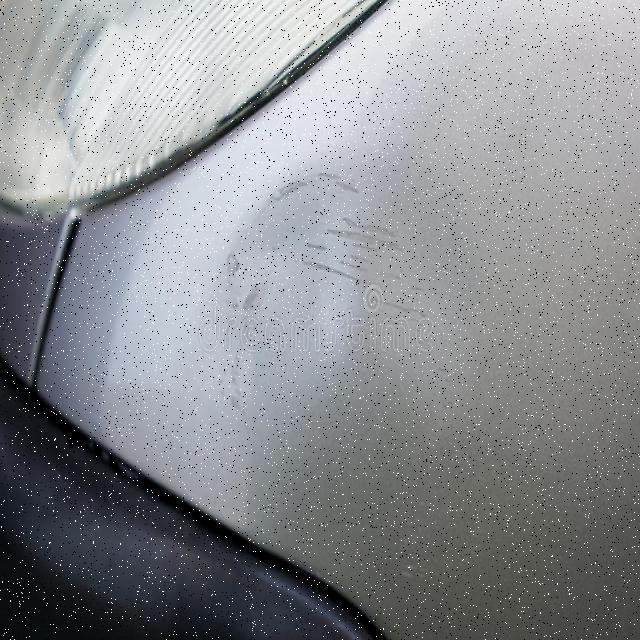bumper: (43, 5, 639, 600)
